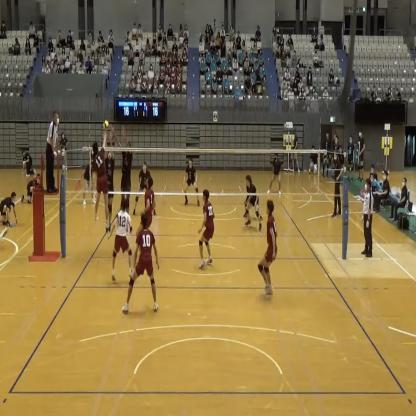spike: (90, 116, 112, 232)
